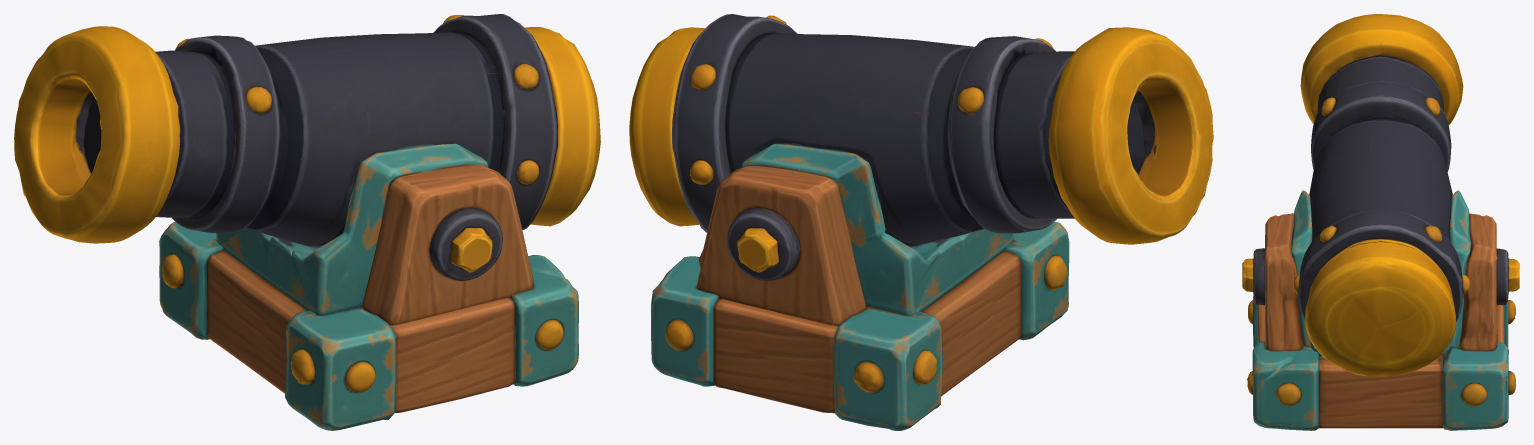
The model's file is cannon.glb.
The picture shows the model from 3 angles, left to right: view 1: azimuth 30°, elevation 25°; view 2: azimuth 150°, elevation 25°; view 3: azimuth 270°, elevation 25°; orthographic projection. The views are drawn at different scales.
Bounding box in the file's own units: 0.9541 × 0.6421 × 0.5864.
Materials: 1 (1 with a texture image).
